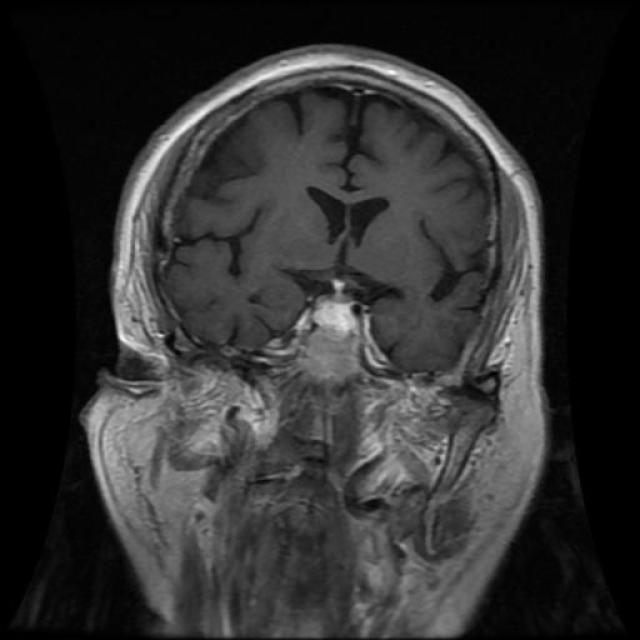pituitary: (286, 269, 396, 386)
